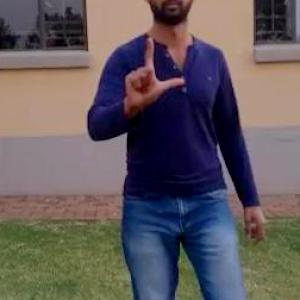land_hand: (117, 31, 194, 121)
